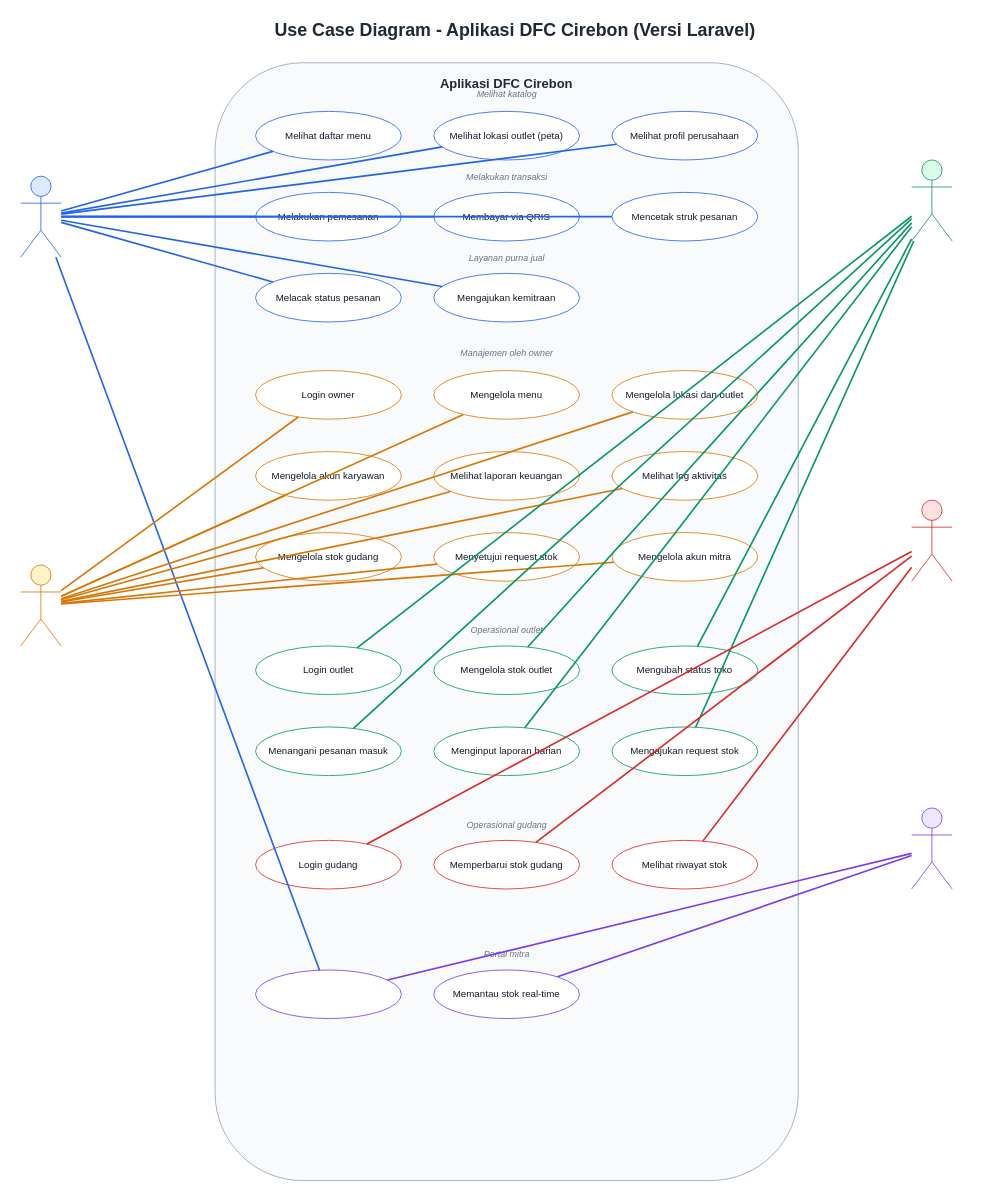
This 988x1195 diagram has some shape labels left out. The shapes that lost their labels are listed below. From the top down, each one's centre as x and y in pixels, then its label:
At point 40,216: "Pelanggan".
At point 931,200: "Karyawan Outlet".
At point 931,540: "Admin Gudang".
At point 40,605: "Owner".
At point 931,848: "Mitra".
At point 328,994: "Login mitra".
